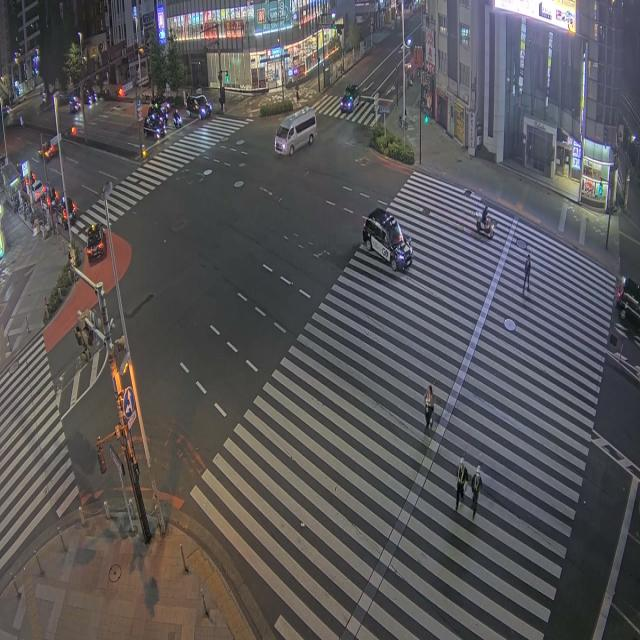car: (363, 208, 412, 271), (617, 278, 639, 324), (86, 224, 105, 262), (56, 196, 77, 228), (186, 96, 212, 119), (340, 84, 360, 112), (143, 117, 166, 139), (55, 204, 75, 229), (147, 103, 168, 125), (39, 143, 58, 160), (32, 180, 46, 202), (84, 88, 96, 105), (69, 95, 80, 113), (3, 104, 10, 116)
motorcycle: (476, 212, 494, 238), (173, 110, 183, 129)
van: (275, 107, 316, 155)
